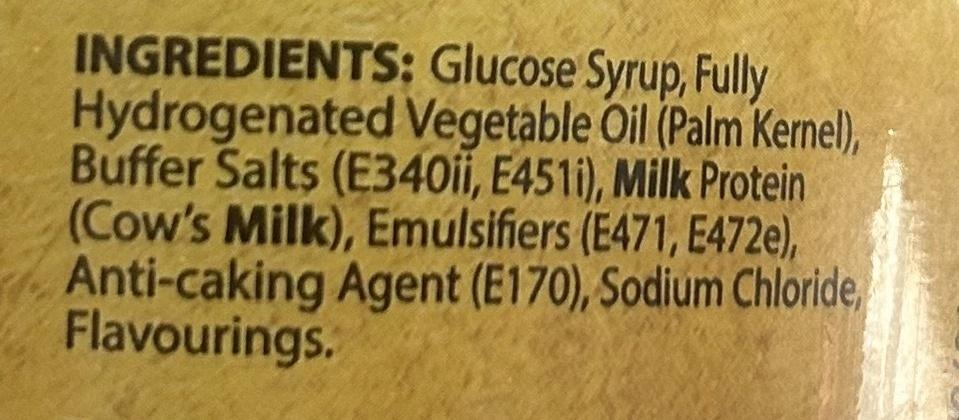ingredients: (56, 15, 877, 391)
